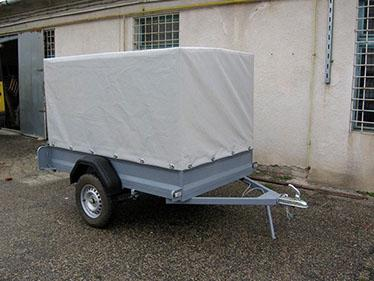trailer: (43, 45, 256, 201)
